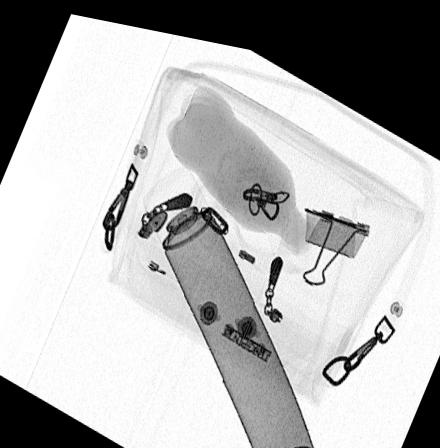Sprayer: (141, 158, 316, 448)
